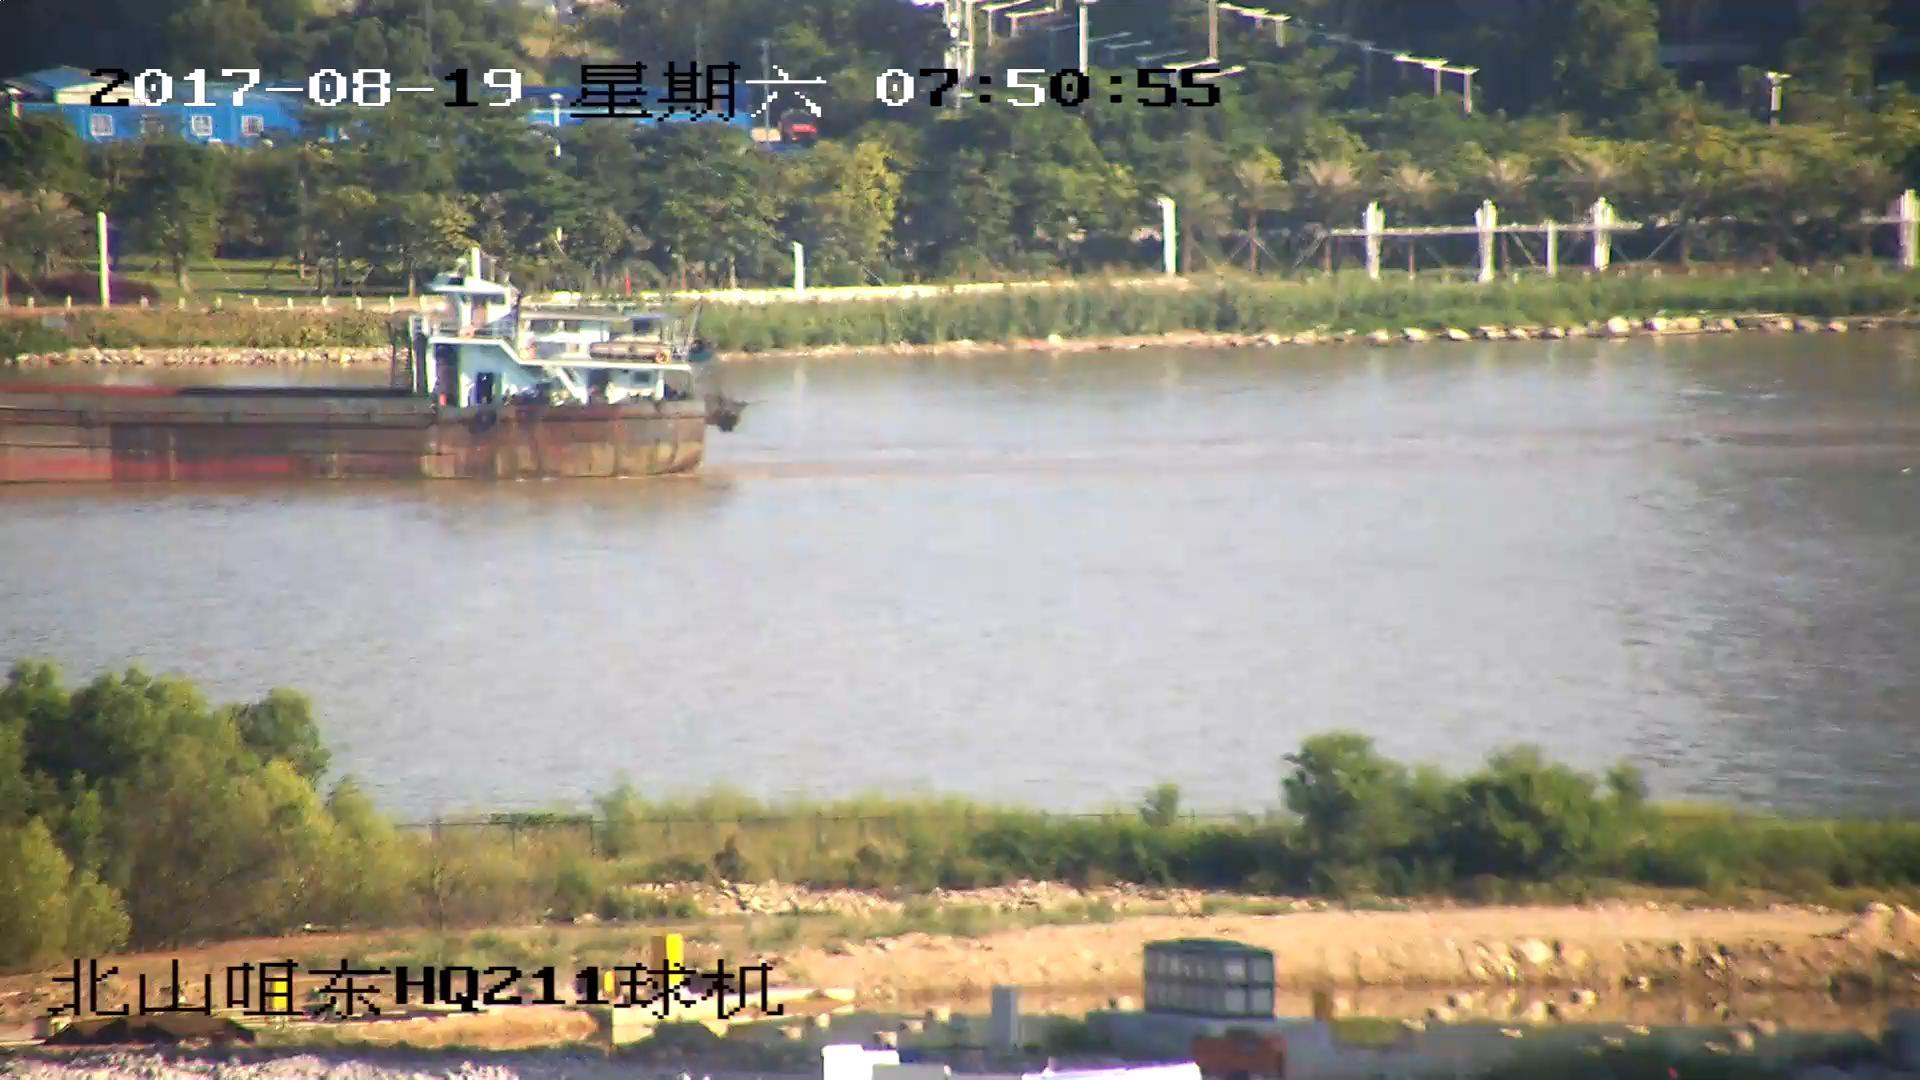Ship: (3, 273, 745, 487)
